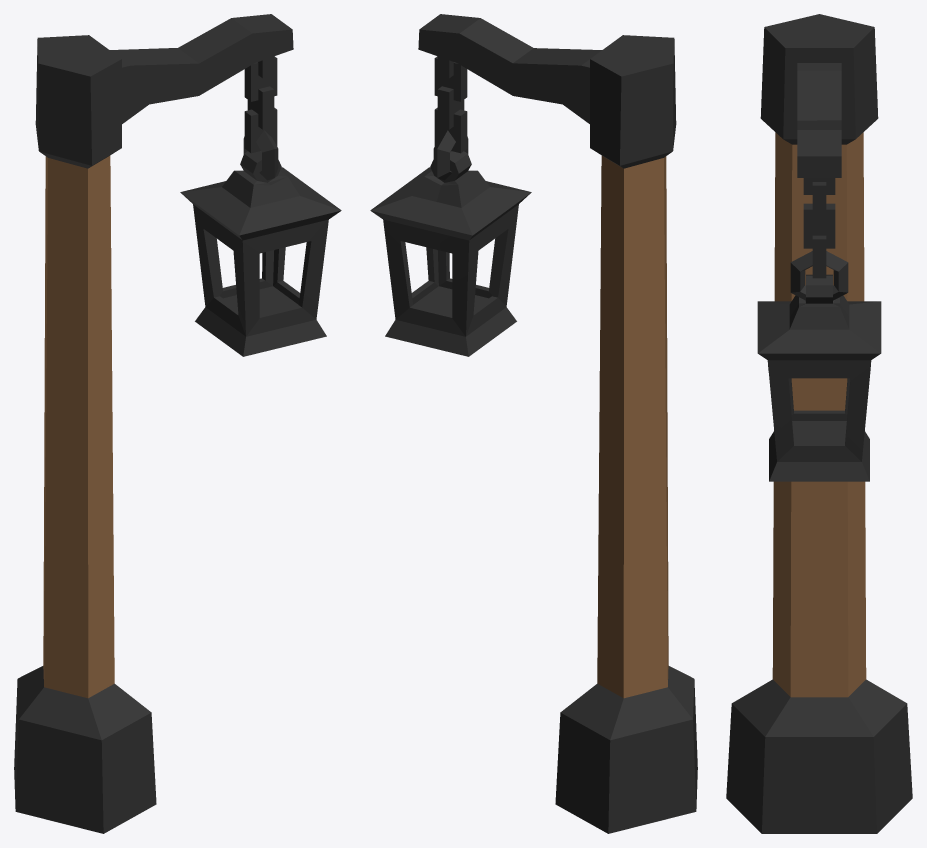
File: Lamp_00.FBX
3 views of the same model, side by side, from view 1: azimuth 30°, elevation 25°; view 2: azimuth 150°, elevation 25°; view 3: azimuth 270°, elevation 25° (orthographic). The views are drawn at different scales.
Parts seen in each view (by area): view 1: Lamp_00; view 2: Lamp_00; view 3: Lamp_00.
Part boxes in pixels (x1,y1,x2,y2): Lamp_00: (14,14,341,833); Lamp_00: (370,14,697,833); Lamp_00: (726,14,912,833).
Bounding box in the file's own units: 56.52 × 135 × 29.54.
